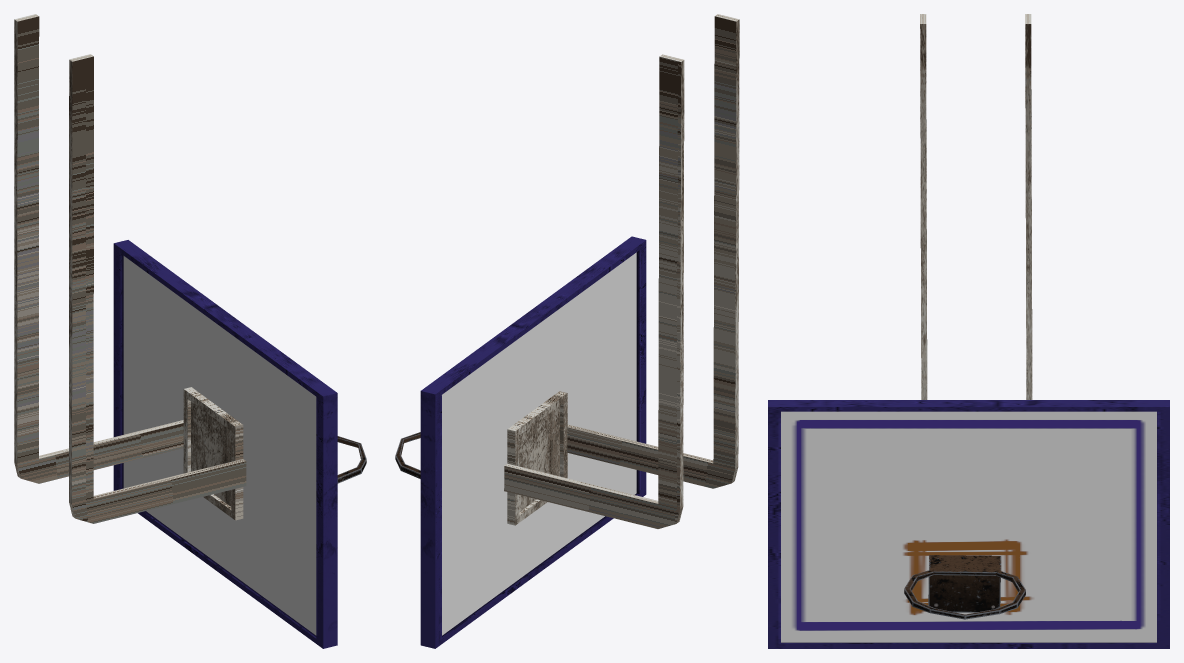
The model's file is Court Rim2.glb.
3 views of the same model, side by side, from view 1: azimuth 30°, elevation 25°; view 2: azimuth 150°, elevation 25°; view 3: azimuth 270°, elevation 25° (orthographic). The views are drawn at different scales.
Parts seen in each view (by area): view 1: Rim Board.001, Cube.004, Ring.002; view 2: Rim Board.001, Cube.004; view 3: Rim Board.001, Ring.002, Cube.004.
Boxes of the visible parts, bbox=[...] form: Rim Board.001: bbox=[113, 240, 337, 648]; Cube.004: bbox=[14, 14, 246, 523]; Ring.002: bbox=[337, 436, 366, 483]; Rim Board.001: bbox=[420, 236, 646, 648]; Cube.004: bbox=[504, 14, 739, 528]; Rim Board.001: bbox=[768, 400, 1169, 648]; Ring.002: bbox=[904, 555, 1025, 619]; Cube.004: bbox=[920, 14, 1032, 399].
Size of the model in its own units: 6.98 by 12.19 by 8.1.
3 materials, 3 textured.
